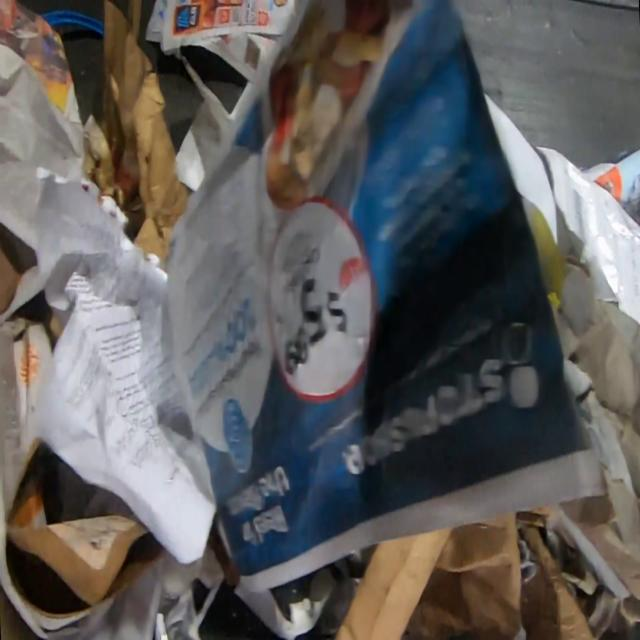cardboard: (329, 499, 599, 639), (5, 435, 172, 618)
rigid_plastic: (38, 8, 103, 36)
